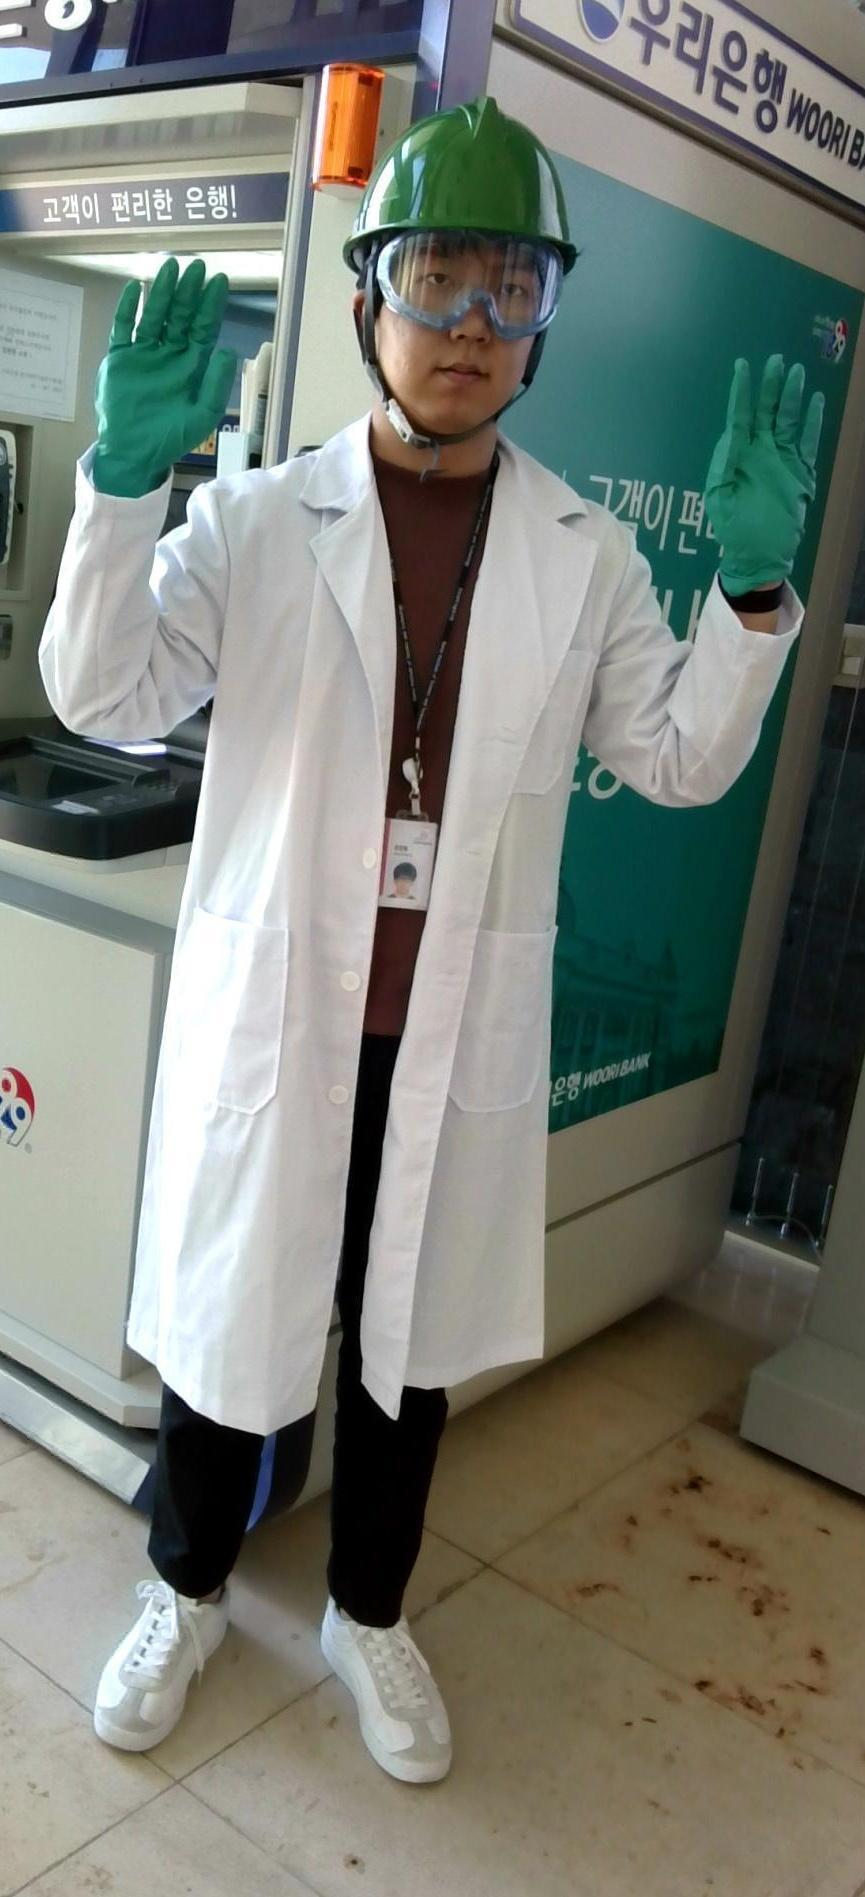lab_coat: (171, 504, 634, 1383)
